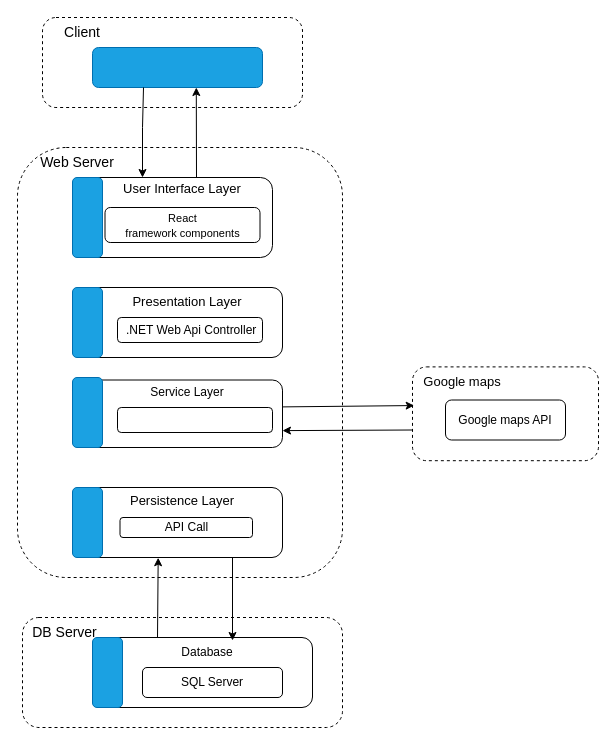
Image size: 616x745. Some labels were removed from this diagram. Each missing label, with the centre of its shape:
.NET Service (Winedonia): [194,419]
Web Browser (HTML,CSS,Javascript,AJAX): [177,67]
